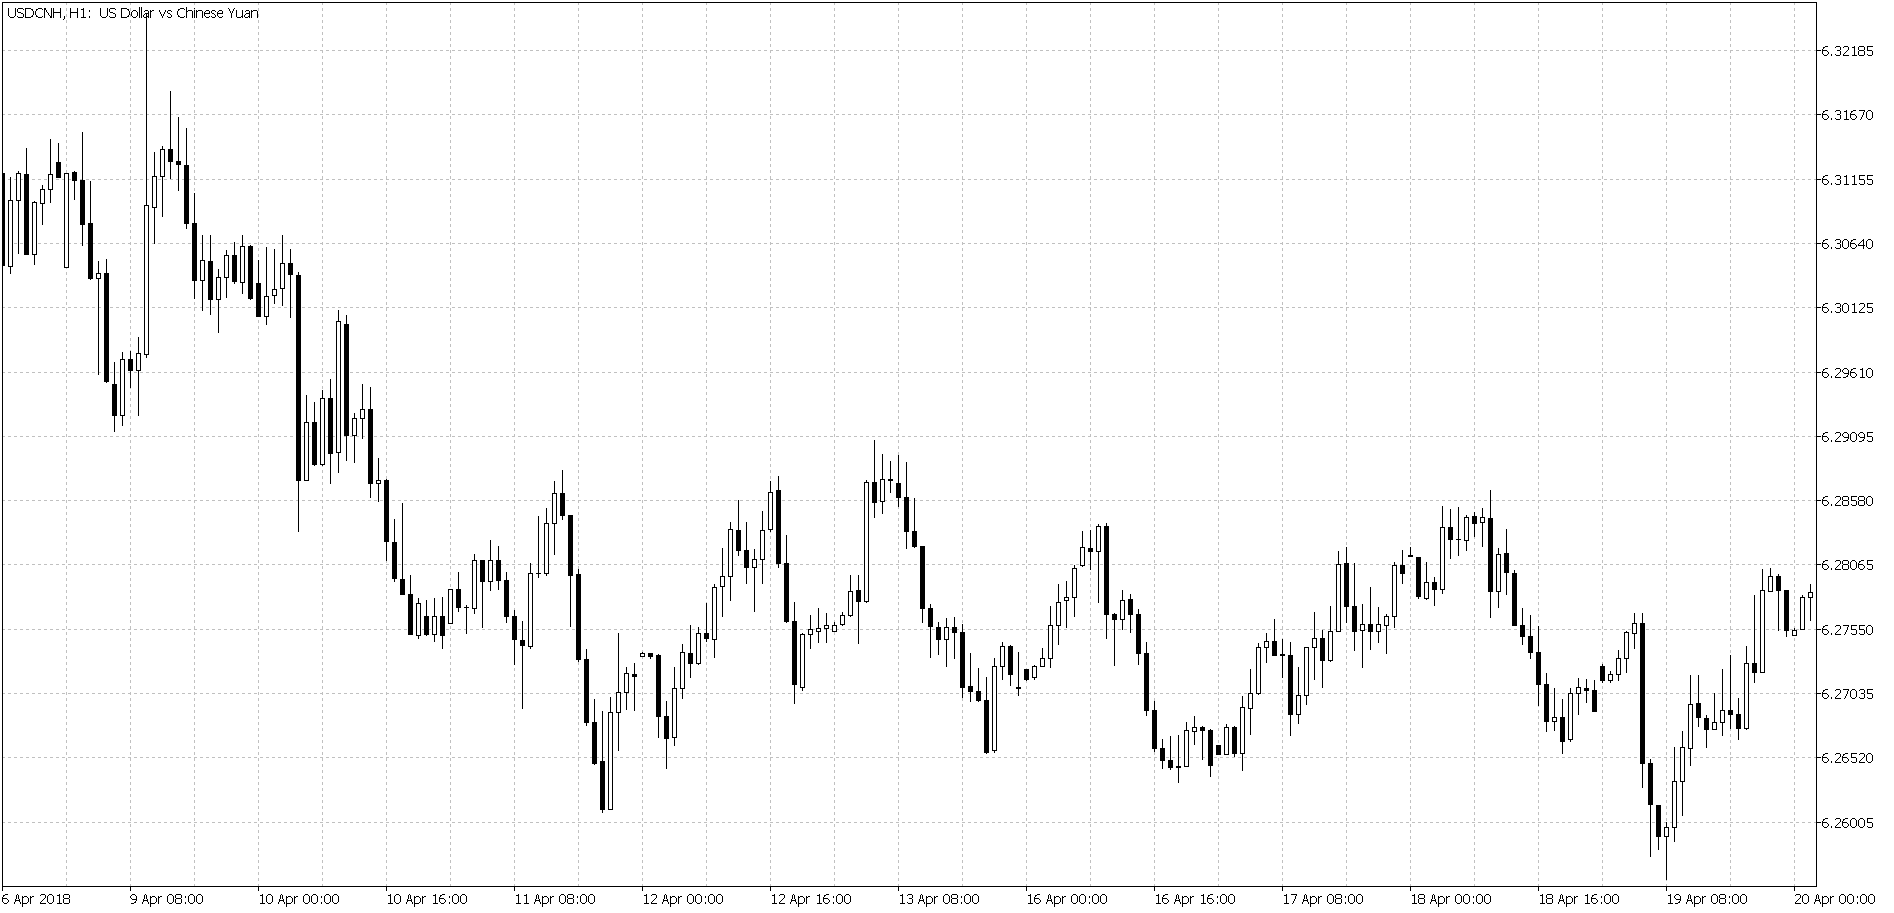bullishEngulfing: (111, 348, 126, 438)
tripleTops: (518, 466, 961, 711)
